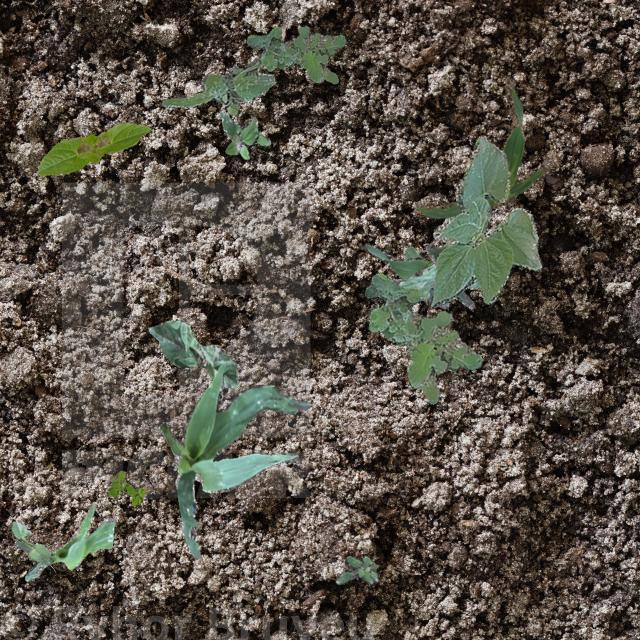crop: (158, 363, 310, 558), (428, 137, 540, 306), (414, 78, 548, 218), (361, 212, 489, 308), (15, 502, 114, 580), (36, 122, 150, 174), (148, 319, 236, 386), (394, 242, 479, 298), (10, 520, 50, 560)
weed: (368, 272, 482, 404), (160, 53, 274, 114), (246, 24, 344, 82), (403, 246, 448, 306), (218, 111, 270, 158), (334, 556, 378, 584), (108, 470, 144, 504)
